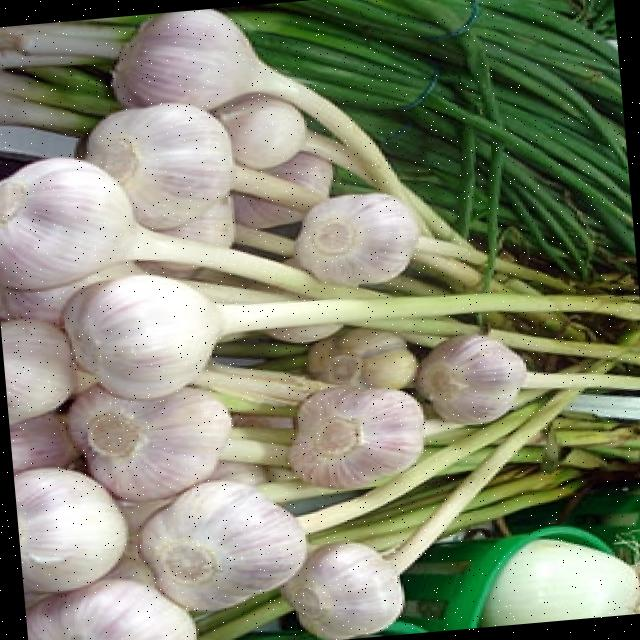garlic: (113, 10, 464, 240), (64, 274, 640, 399), (0, 157, 383, 299), (85, 104, 325, 229), (139, 480, 305, 611), (66, 387, 230, 501), (14, 468, 126, 592), (294, 192, 420, 285)
